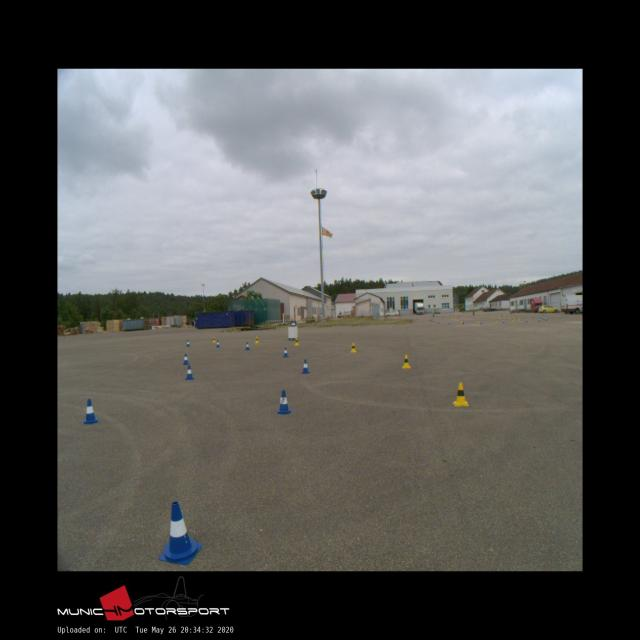blue_cone: (159, 501, 202, 565), (82, 400, 99, 423), (276, 390, 291, 414), (300, 359, 310, 373), (184, 365, 194, 379), (282, 347, 289, 358), (182, 354, 189, 364), (244, 342, 250, 350), (216, 340, 220, 348), (186, 340, 190, 347)
yellow_cone: (453, 382, 468, 405), (402, 354, 409, 367), (350, 342, 356, 352), (294, 338, 300, 345), (212, 336, 216, 343), (255, 336, 259, 343)
